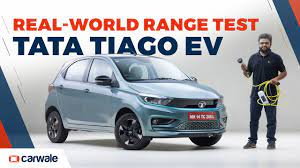Tiago: (39, 53, 229, 153)
